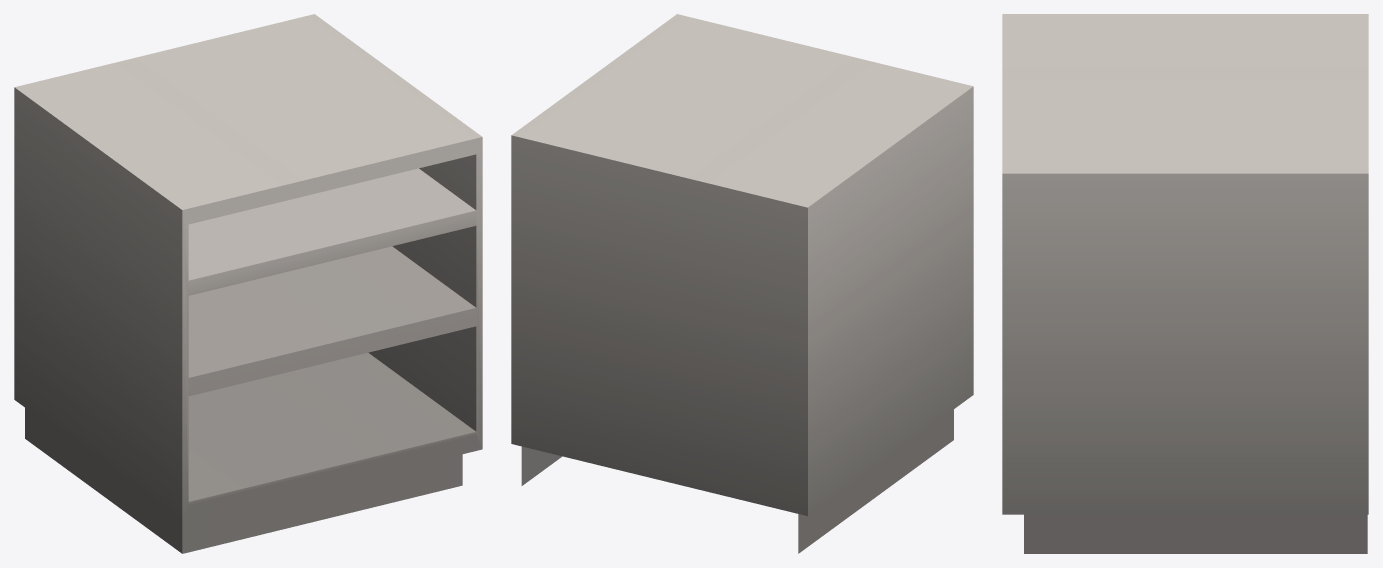
Rendered from Unit_80cm_open.fbx.
The picture shows the model from 3 angles, left to right: view 1: azimuth 30°, elevation 25°; view 2: azimuth 150°, elevation 25°; view 3: azimuth 270°, elevation 25°; orthographic projection. The views are drawn at different scales.
Visible parts, largest first — view 1: Unit_80cm_open; view 2: Unit_80cm_open; view 3: Unit_80cm_open.
Part boxes in pixels (bbox=[...]): Unit_80cm_open: bbox=[14, 14, 482, 553]; Unit_80cm_open: bbox=[511, 14, 973, 553]; Unit_80cm_open: bbox=[1002, 14, 1368, 553].
Bounding box in the file's own units: 80 × 90 × 77.48.
